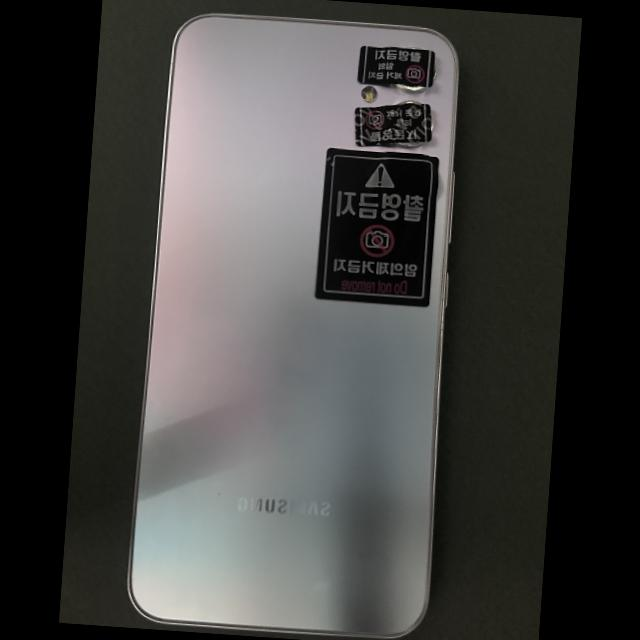lens: (394, 85, 424, 91), (397, 142, 422, 147)
phone: (127, 12, 458, 638)
sticker: (315, 147, 439, 307), (354, 103, 431, 146), (357, 45, 435, 87)
